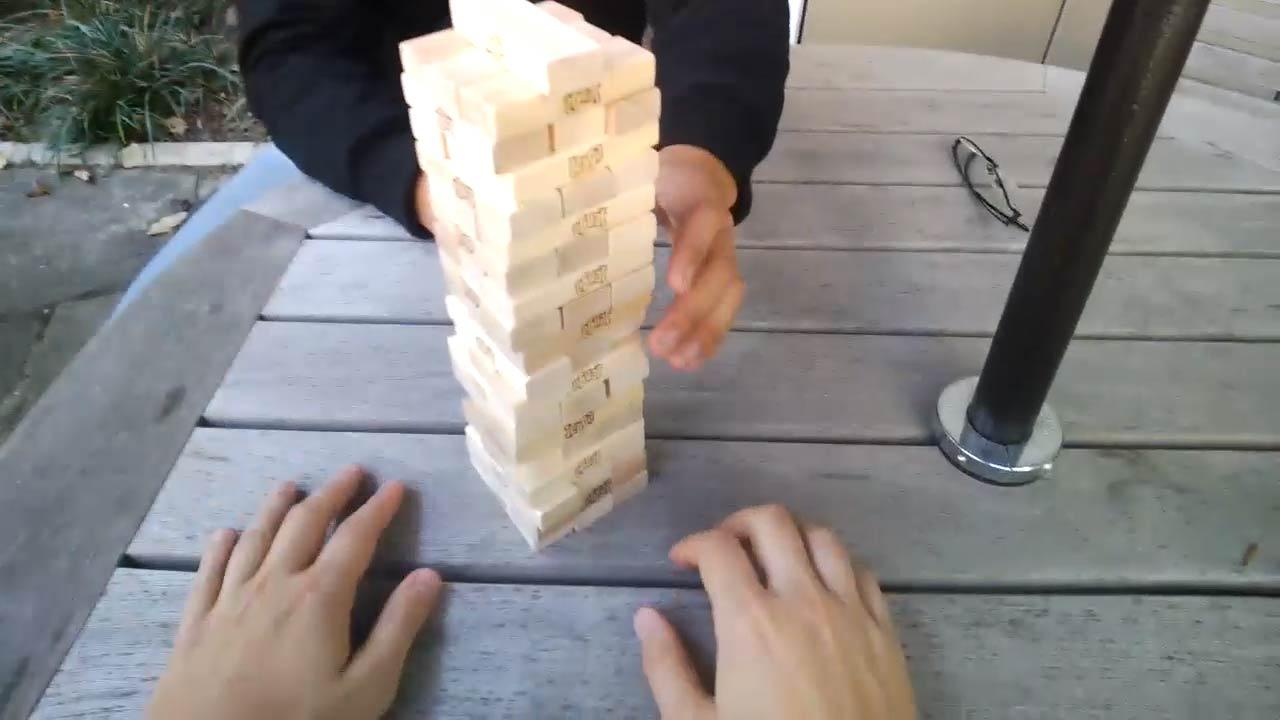hand: (164, 462, 438, 720), (629, 500, 930, 720), (656, 143, 745, 390)
